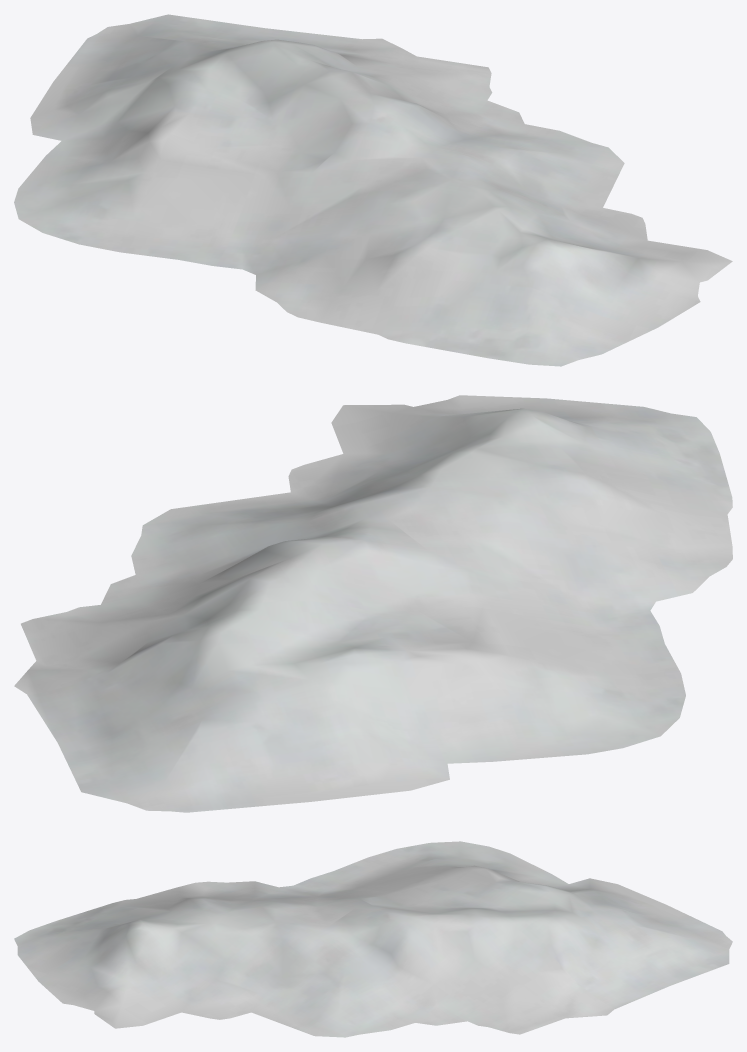
Rendered from snow_mound_d.glb.
3 renders of one model, top to bottom at view 1: azimuth 30°, elevation 25°; view 2: azimuth 150°, elevation 25°; view 3: azimuth 270°, elevation 25°, orthographic. The views are drawn at different scales.
Visible parts, largest first — view 1: snow_mound_d_LOD0; view 2: snow_mound_d_LOD0; view 3: snow_mound_d_LOD0.
Boxes of the visible parts, x1,y1,x2,y2 form: snow_mound_d_LOD0: (14, 14, 732, 366); snow_mound_d_LOD0: (14, 395, 732, 812); snow_mound_d_LOD0: (14, 841, 732, 1037).
Bounding box in the file's own units: 5.88 × 0.6696 × 9.1.
1 material, 1 textured.
